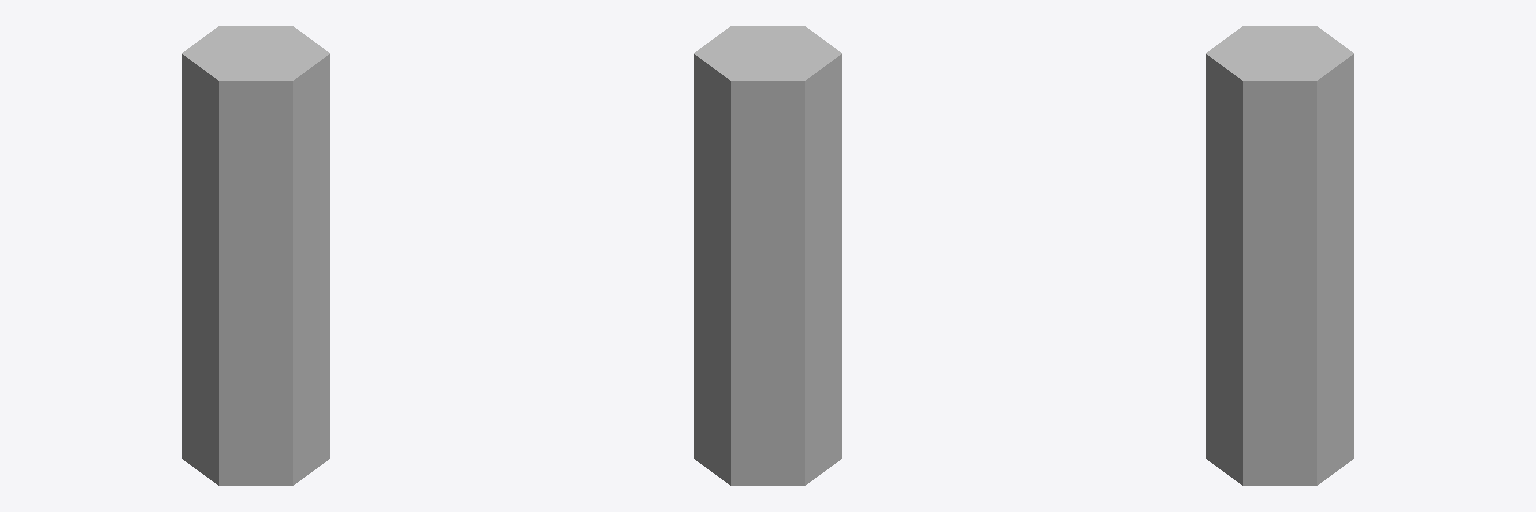
File: D__Libraries_Documents_emoji wheel CVR_Assets_Meshes_hexagonal_prism.obj
The picture shows the model from 3 angles: view 1: azimuth 30°, elevation 25°; view 2: azimuth 150°, elevation 25°; view 3: azimuth 270°, elevation 25°; orthographic projection.
Visible parts, largest first — view 1: Circle; view 2: Circle; view 3: Circle.
Boxes of the visible parts, <box> form: Circle: <box>182,26,329,485</box>; Circle: <box>694,26,841,485</box>; Circle: <box>1206,26,1353,485</box>.
Size of the model in its own units: 1.73 by 6 by 2.